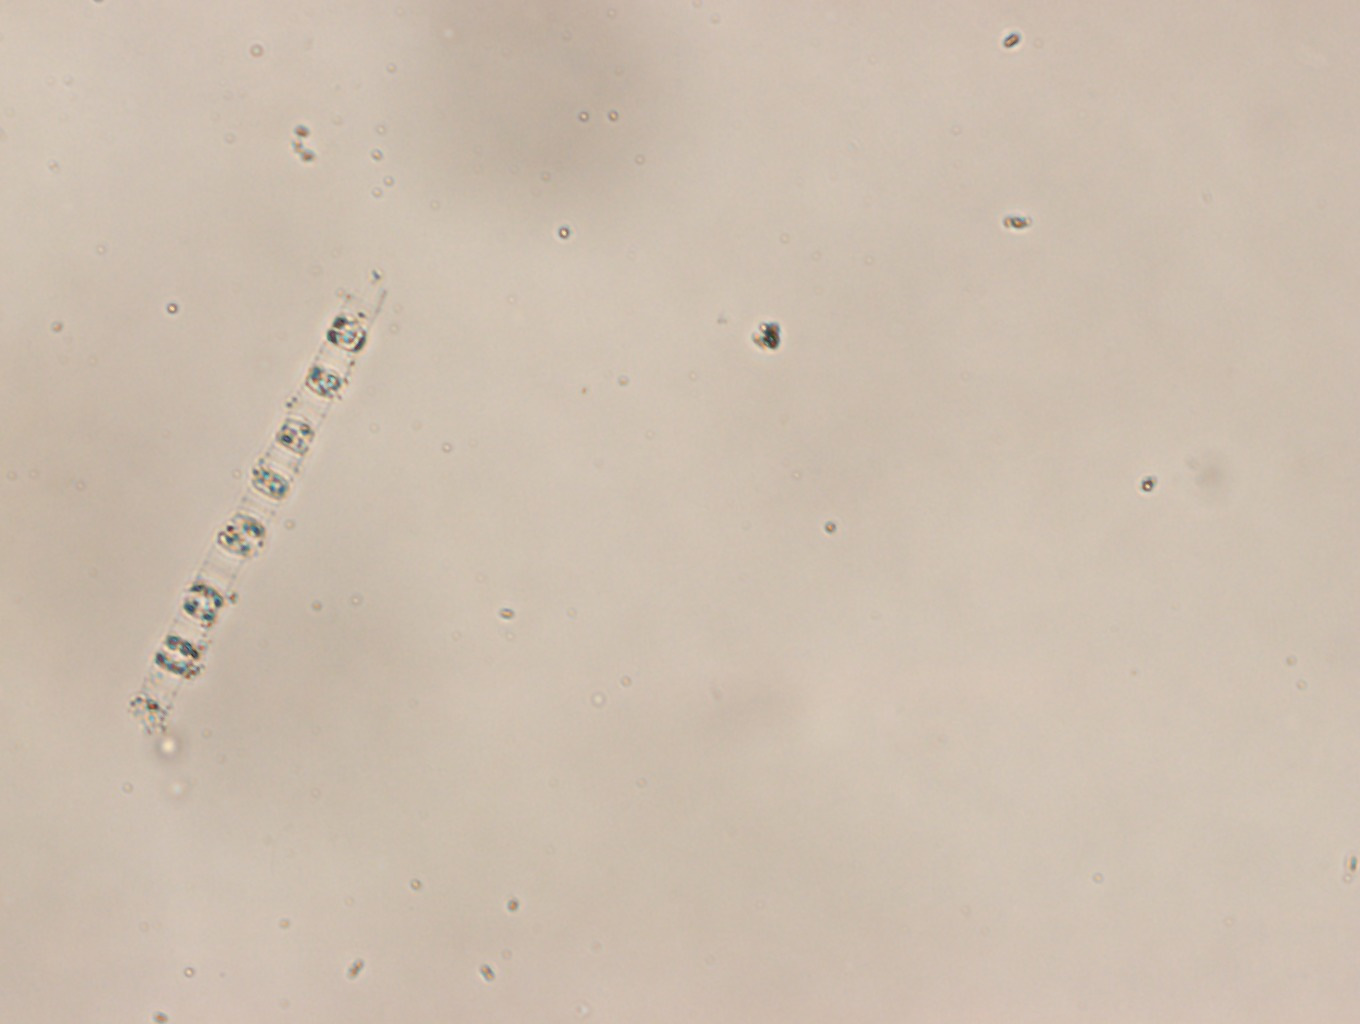skeletonema: (132, 285, 388, 731)
